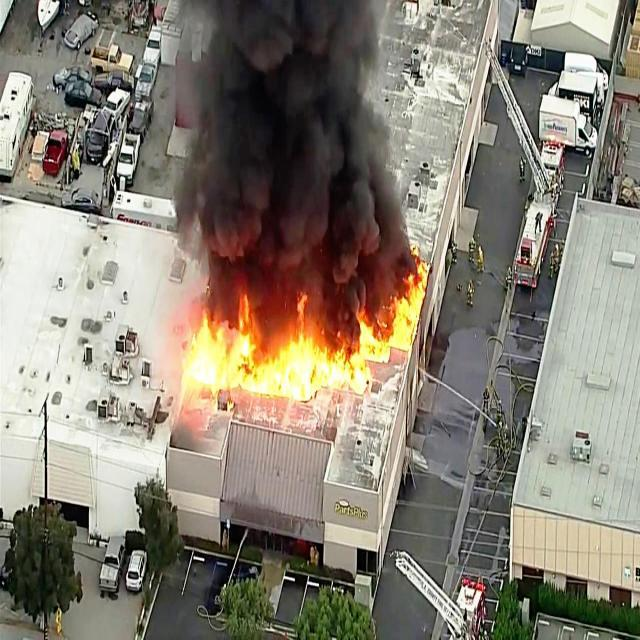Fire: (183, 309, 386, 398), (386, 258, 434, 354)
Smoke: (176, 0, 385, 309)
